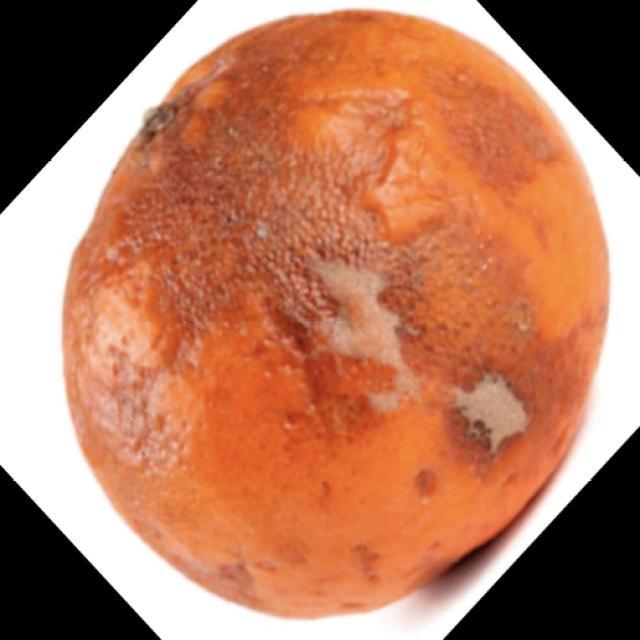sangat-busuk: (63, 11, 607, 615)
